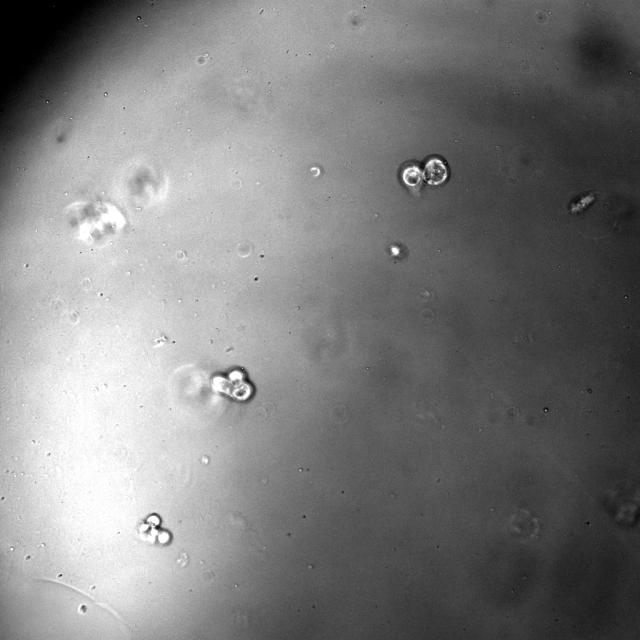organoid: (65, 199, 126, 246), (398, 154, 450, 194), (211, 369, 253, 401), (137, 513, 172, 545), (567, 190, 597, 215), (387, 242, 408, 261)
